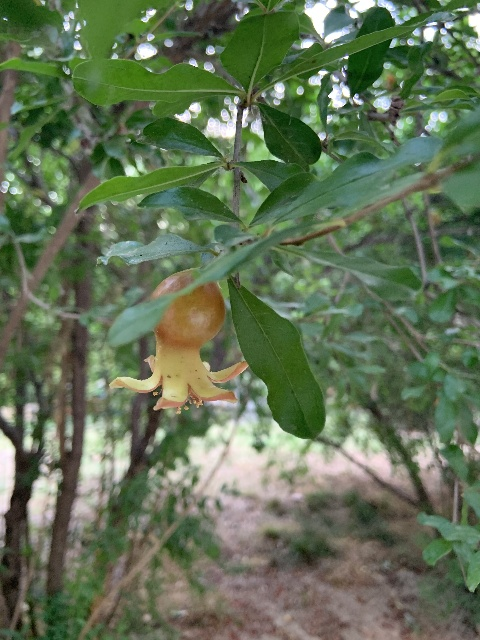early-fruit: (109, 268, 249, 413)
